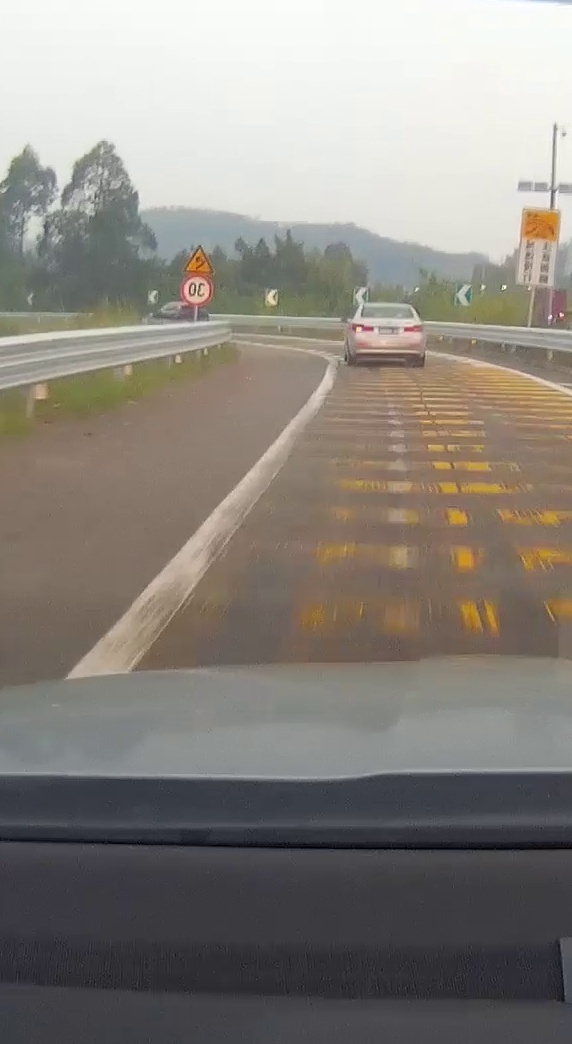L_light: (351, 324, 374, 333)
R_light: (404, 325, 424, 333)
T_light: (381, 307, 392, 311)
day-left: (350, 302, 426, 367)
